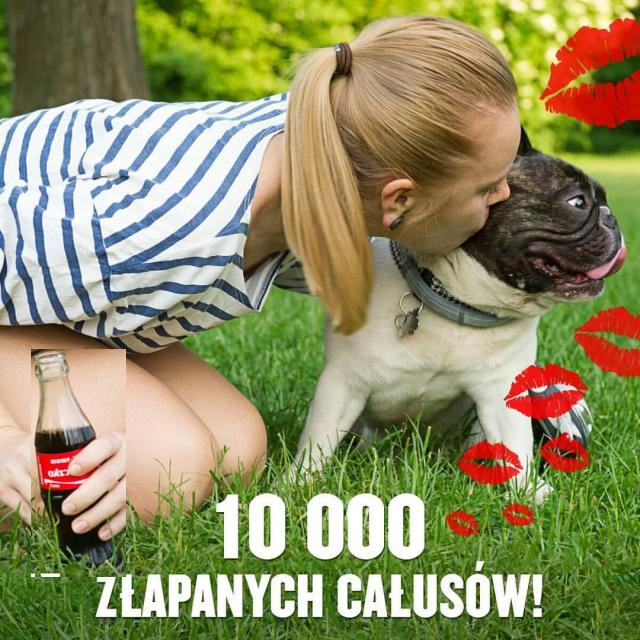coca-cola: (31, 350, 126, 578)
